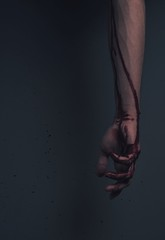blood: (109, 22, 143, 200)
